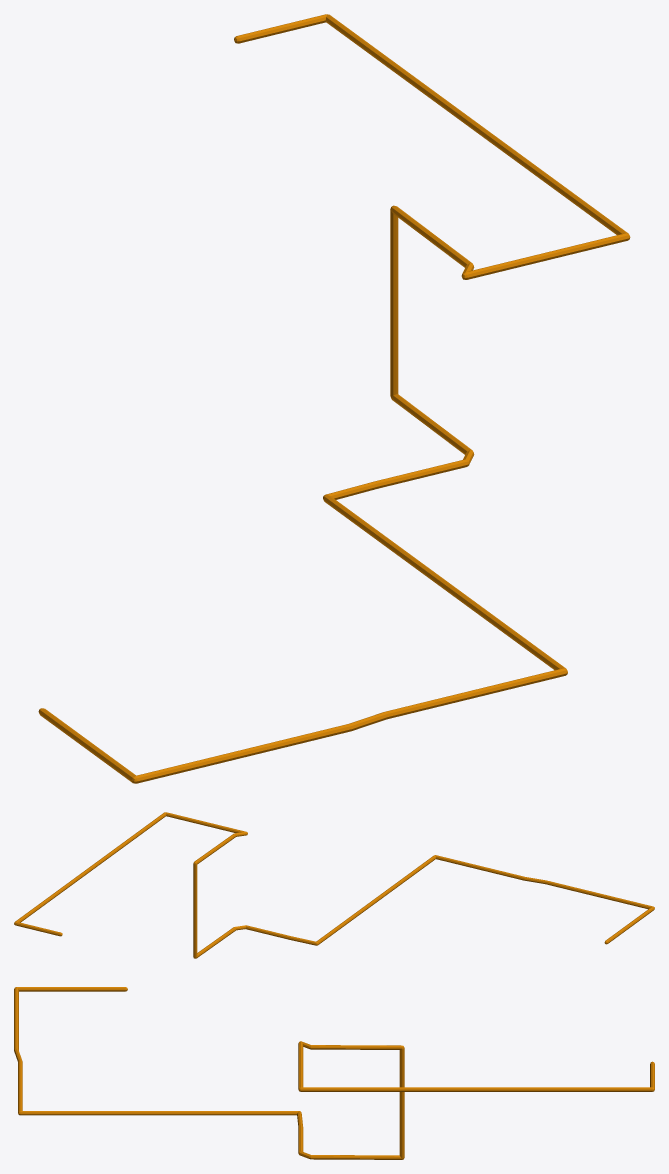
3 renders of one model, top to bottom at view 1: azimuth 30°, elevation 25°; view 2: azimuth 150°, elevation 25°; view 3: azimuth 270°, elevation 25°, orthographic. The views are drawn at different scales.
Bounding box in the file's own units: 2071 × 520 × 2643.
